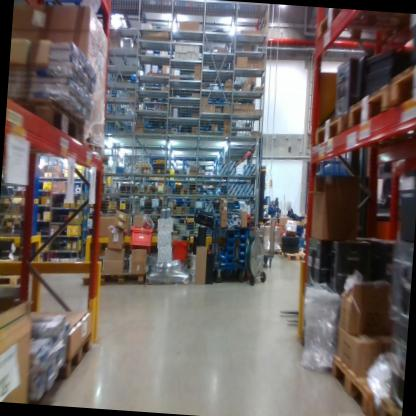pallet: (5, 92, 88, 154), (315, 10, 415, 50), (329, 347, 385, 416), (345, 77, 396, 137), (56, 330, 94, 386), (308, 110, 351, 158), (388, 43, 416, 115), (97, 262, 149, 293), (144, 263, 192, 291), (79, 121, 110, 159), (375, 388, 403, 416), (77, 262, 109, 285), (0, 267, 27, 291), (277, 248, 302, 262), (298, 250, 311, 268), (258, 247, 280, 256)
small_load_carrier: (128, 222, 157, 257), (168, 234, 196, 264)
